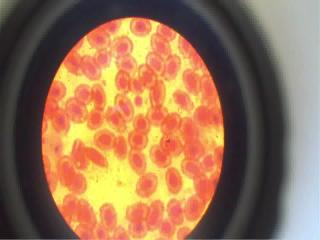cell: (134, 174, 159, 197), (105, 106, 127, 131), (80, 199, 100, 226), (90, 129, 115, 150), (174, 89, 197, 111), (151, 35, 173, 57), (66, 101, 90, 121), (146, 50, 164, 76), (187, 140, 209, 160), (182, 69, 201, 92), (100, 203, 117, 228), (154, 147, 174, 168), (130, 17, 152, 36), (136, 176, 158, 195), (181, 117, 199, 140), (85, 57, 101, 82), (128, 151, 148, 171), (126, 202, 147, 221), (120, 99, 138, 121), (54, 110, 72, 132), (168, 169, 185, 192), (167, 198, 184, 220), (58, 160, 74, 183), (86, 108, 105, 127), (65, 52, 81, 74), (112, 38, 134, 54), (152, 85, 168, 107), (65, 195, 81, 217), (89, 28, 109, 45), (167, 56, 180, 82), (129, 132, 150, 148), (150, 202, 162, 230), (118, 56, 138, 72), (118, 70, 132, 92), (51, 81, 68, 98), (78, 85, 94, 103), (150, 107, 168, 122), (132, 117, 150, 130)
